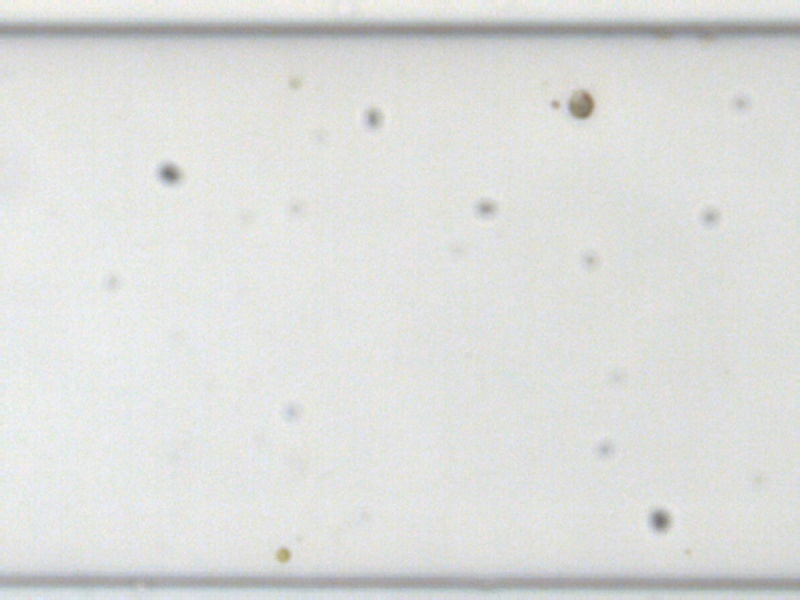Chlorella: (274, 544, 292, 562), (287, 75, 302, 89)
Dunaliella salina: (565, 85, 594, 119)
